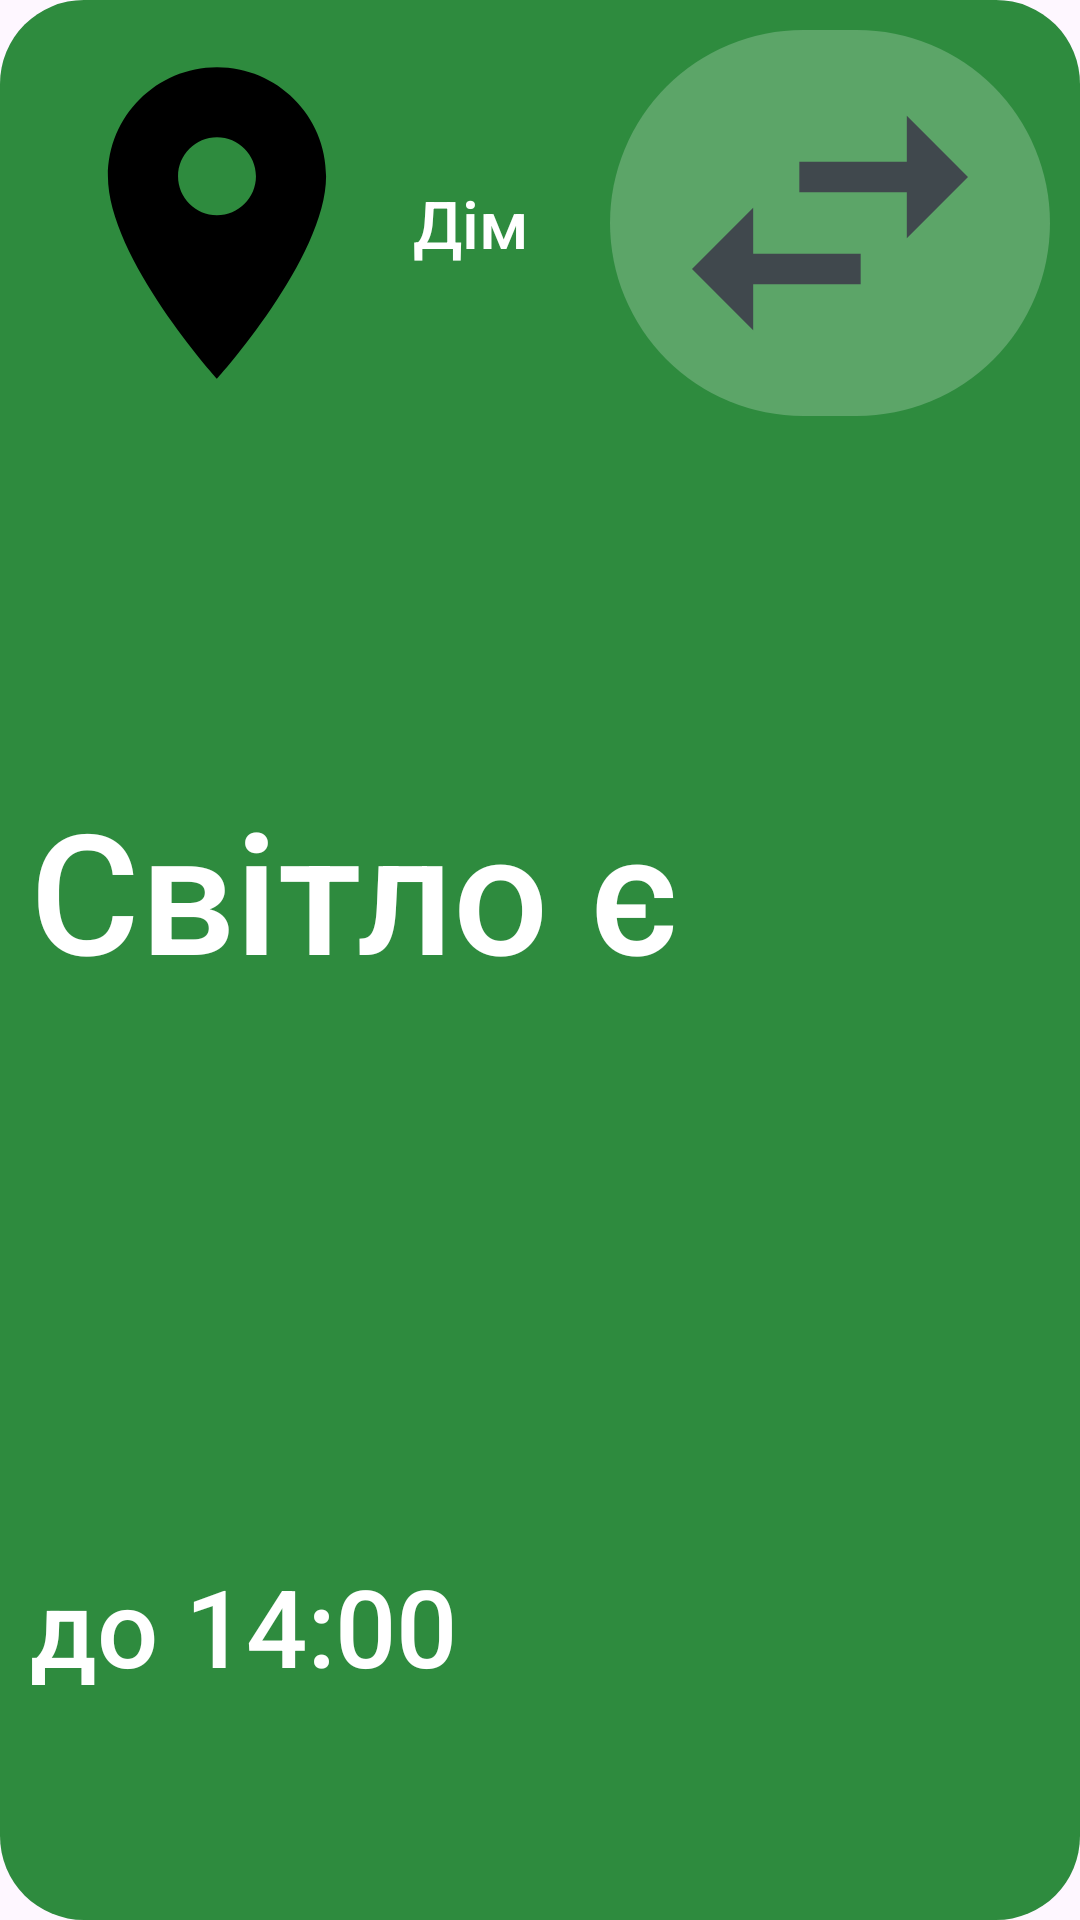

Icons on this 1080x1920 Android screen, each with the point to tap as (x,y):
place: (217,223)
